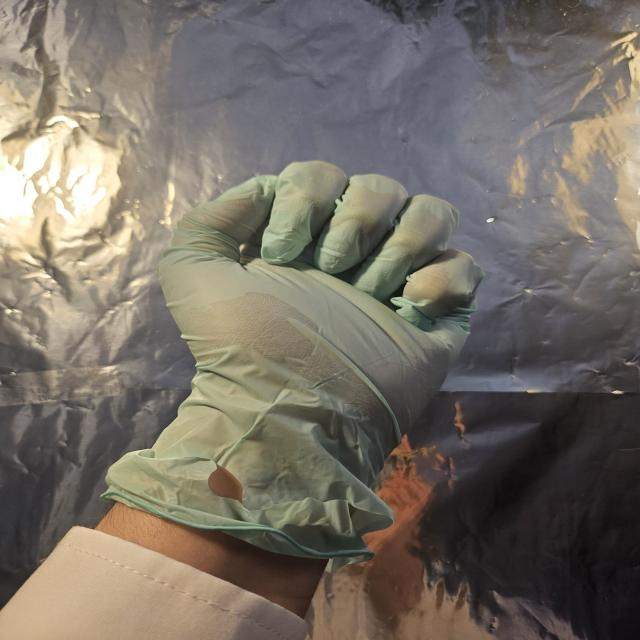gloves_damaged: (102, 159, 484, 571)
